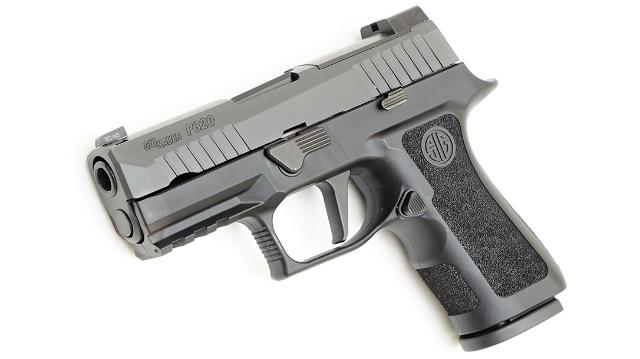handgun: (80, 2, 572, 356)
